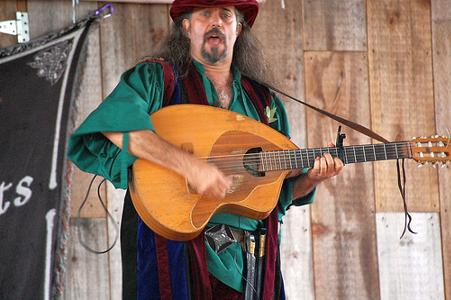person: (70, 3, 346, 299)
